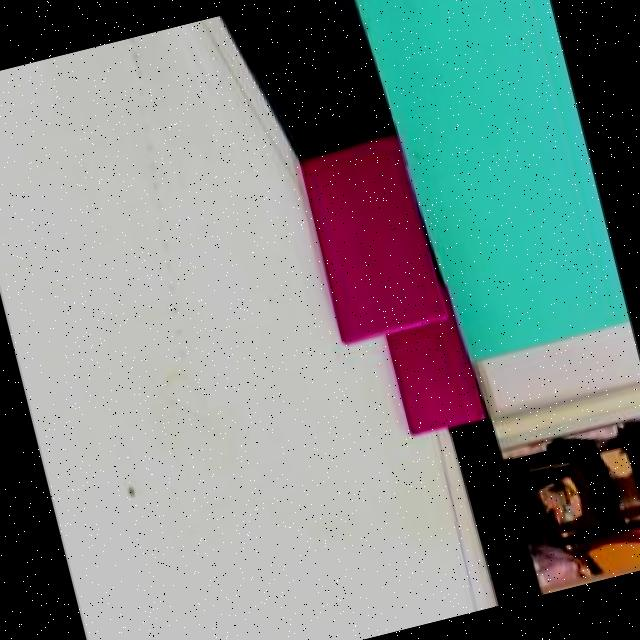xparking: (297, 136, 442, 342), (384, 318, 478, 433)
